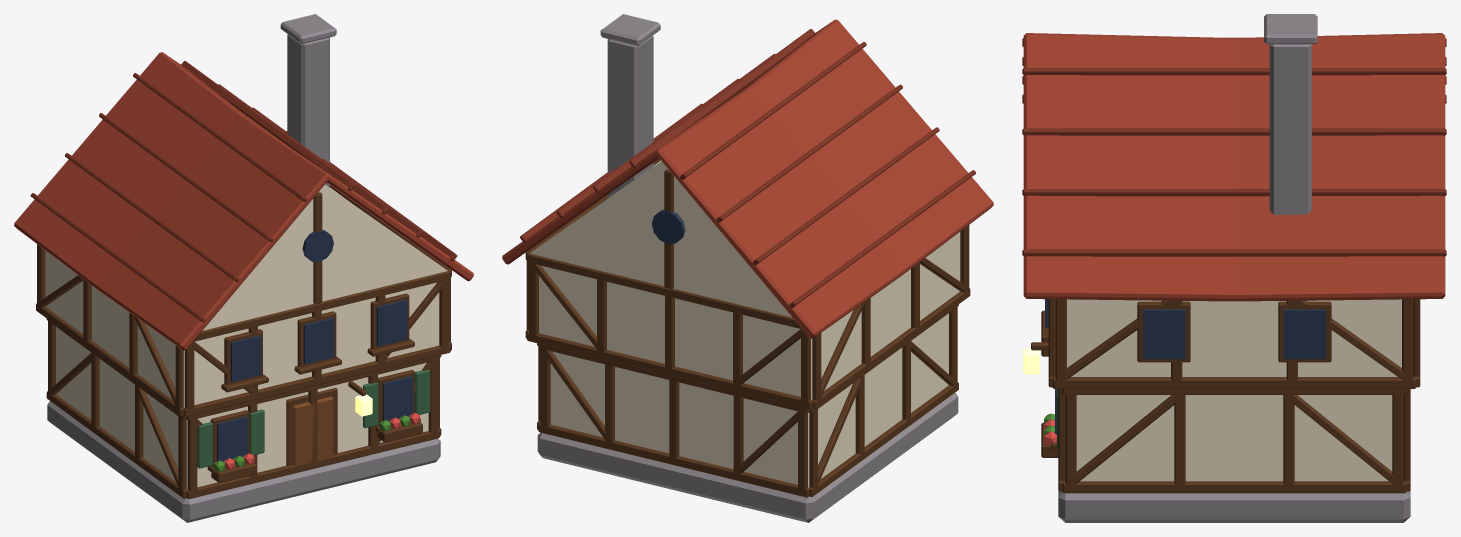
File: house_north_0.glb
3 renders of one model, left to right at view 1: azimuth 30°, elevation 25°; view 2: azimuth 150°, elevation 25°; view 3: azimuth 270°, elevation 25°, orthographic. The views are drawn at different scales.
Visible parts, largest first — view 1: roof, floor2, gable-1, floor1, plinth, chimney, f2_front_sill, door, f1_front_sill, f2_front_plate, tiles3_1, f2_left_sill (+37 smaller); view 2: roof, floor1, floor2, gable1, plinth, chimney, f2_back_sill, f1_back_sill, f2_back_plate, tiles3_1, f2_left_sill, f1_left_sill (+35 smaller); view 3: roof, floor1, floor2, plinth, chimney, f1_right_sill, f2_right_sill, tiles0_1, tiles2_1, tiles3_1, tiles1_1, ws_-0.5_glass (+19 smaller).
Part boxes in pixels (box(x1,y1,x2,y2)): roof: box(14, 52, 473, 350); floor2: box(45, 187, 439, 407); gable-1: box(202, 184, 447, 330); floor1: box(56, 327, 428, 489); plinth: box(47, 401, 440, 522); chimney: box(287, 34, 329, 187); f2_front_sill: box(183, 344, 450, 416); door: box(292, 396, 333, 466); f1_front_sill: box(186, 429, 439, 499); f2_front_plate: box(194, 270, 450, 341); tiles3_1: box(181, 61, 354, 190); f2_left_sill: box(36, 303, 183, 416); roof: box(502, 19, 993, 338); floor1: box(550, 313, 948, 487); floor2: box(539, 160, 960, 399); gable1: box(530, 161, 792, 317); plinth: box(537, 392, 958, 522); chimney: box(607, 36, 653, 198); f2_back_sill: box(527, 332, 812, 409); f1_back_sill: box(538, 423, 809, 497); f2_back_plate: box(527, 252, 801, 328); tiles3_1: box(629, 29, 814, 167); f2_left_sill: box(812, 288, 970, 409); f1_left_sill: box(809, 382, 958, 496); roof: box(1023, 33, 1445, 301); floor1: box(1076, 395, 1392, 481); floor2: box(1067, 299, 1401, 376); plinth: box(1058, 490, 1410, 522); chimney: box(1269, 44, 1311, 215); f1_right_sill: box(1062, 481, 1406, 493); f2_right_sill: box(1052, 377, 1416, 388); tiles0_1: box(1022, 249, 1446, 256); tiles2_1: box(1022, 128, 1446, 135); tiles3_1: box(1022, 68, 1446, 75); tiles1_1: box(1022, 189, 1446, 196); ws_-0.5_glass: box(1143, 309, 1185, 359).
Size of the model in its own units: 3.01 by 3.73 by 3.01.
